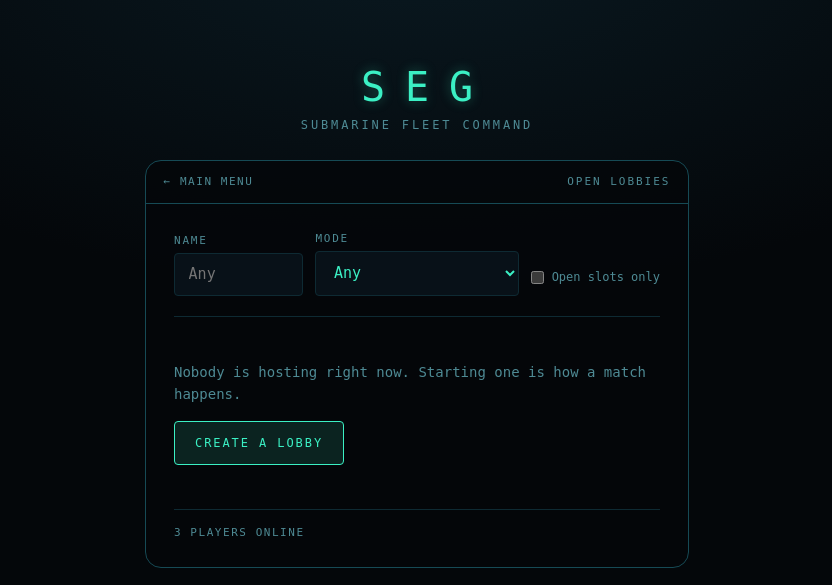
Test: an empty list › blames the filters when there are filters to blame, and offers to clear them
The image size is (832, 585).
Type "nothing matches this" into the search field labelled "Name". click: (239, 274)
box: [174,253,303,296]
Wait 400 ms
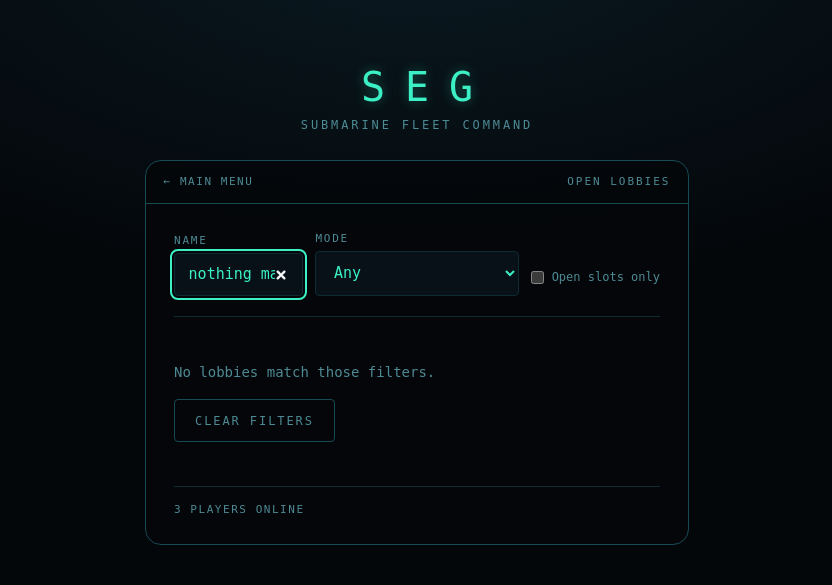
Expected: the text "No lobbies match those filters." is shown, [174,360,435,383]
Click the button "CLEAR FILTERS". click: (254, 420)
box: [174,399,335,442]
Wait 400 ms
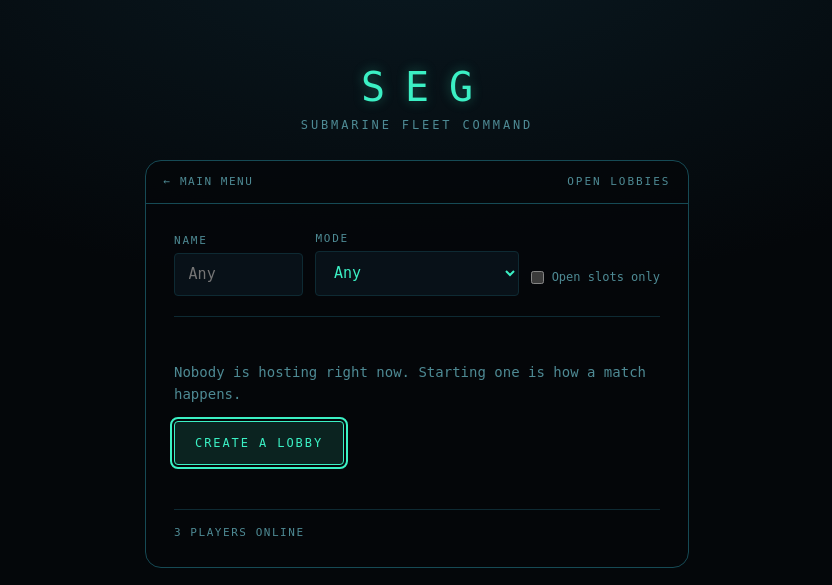
Expected: the text "Nobody is hosting" is shown, [174,364,646,402]
